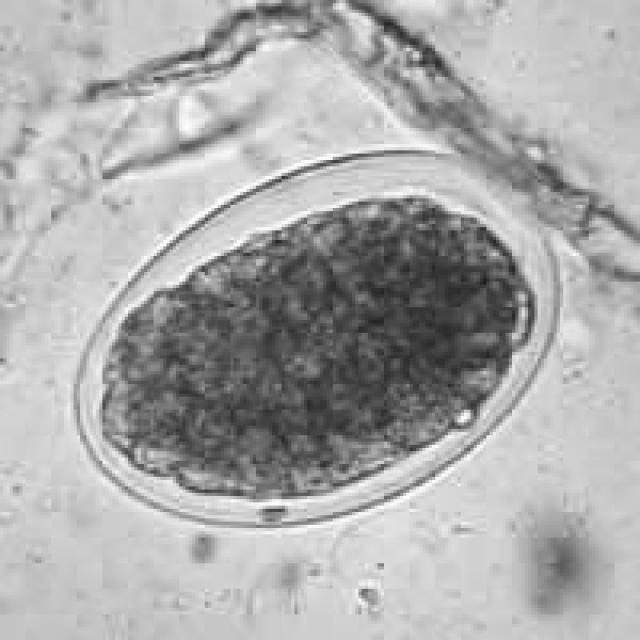Ancylostoma Spp: (59, 128, 568, 554)
